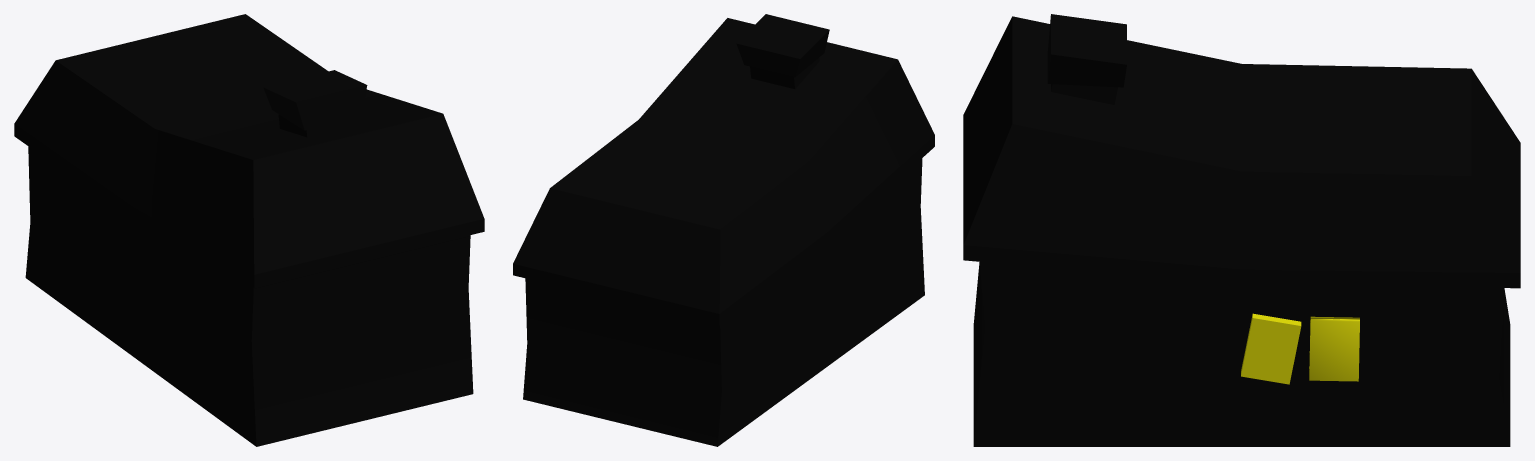
File: MODEL_Blockout_House.fbx
3 renders of one model, left to right at view 1: azimuth 30°, elevation 25°; view 2: azimuth 150°, elevation 25°; view 3: azimuth 270°, elevation 25°, orthographic. The views are drawn at different scales.
Visible parts, largest first — view 1: pCube15, pCube16; view 2: pCube15, pCube16; view 3: pCube15, pCube16, pCube17, pCube18.
Boxes of the visible parts, bbox=[...] form: pCube15: bbox=[14, 14, 484, 446]; pCube16: bbox=[263, 70, 367, 137]; pCube15: bbox=[513, 18, 934, 446]; pCube16: bbox=[736, 14, 829, 88]; pCube15: bbox=[963, 16, 1520, 446]; pCube16: bbox=[1047, 14, 1126, 104]; pCube17: bbox=[1241, 313, 1301, 384]; pCube18: bbox=[1309, 316, 1359, 381].
Size of the model in its own units: 480 by 590 by 848.
